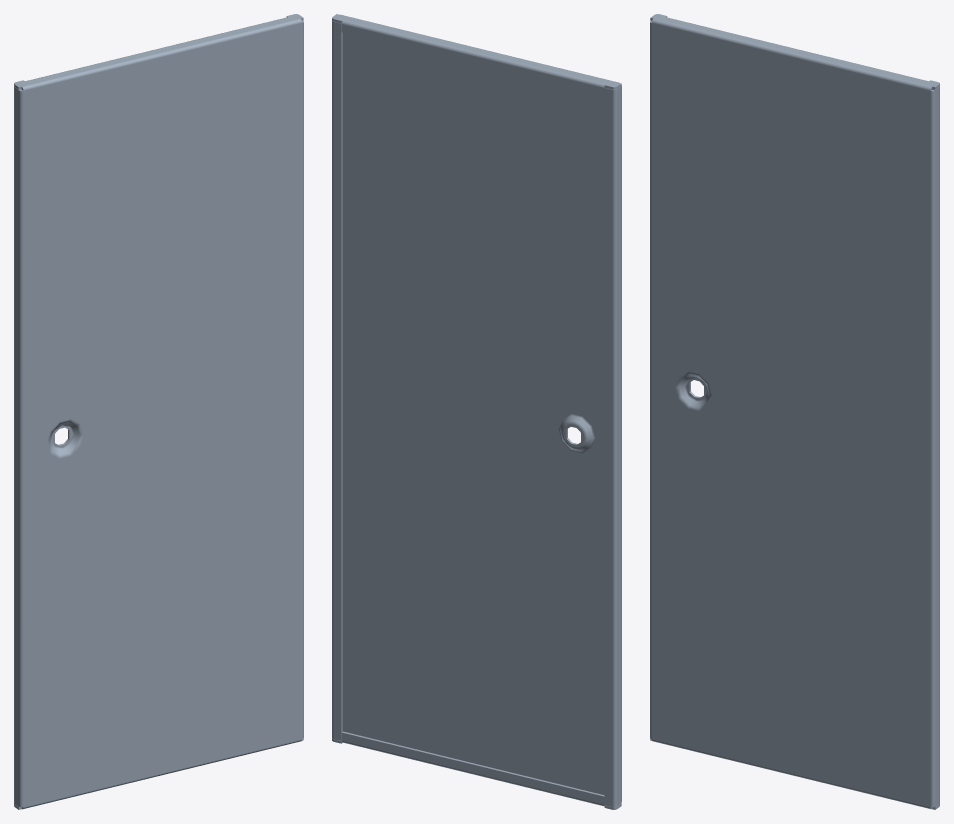
Rendered from your_model.obj.
3 renders of one model, left to right at view 1: azimuth 30°, elevation 25°; view 2: azimuth 150°, elevation 25°; view 3: azimuth 330°, elevation 25°, orthographic.
Visible parts, largest first — view 1: 1; view 2: 1; view 3: 1.
Boxes of the visible parts, box(x1,y1,x2,y2) form: 1: box(14, 14, 303, 809); 1: box(332, 14, 621, 809); 1: box(650, 14, 939, 809).
Size of the model in its own units: 317 by 768 by 15.
